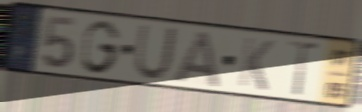5: (41, 13, 80, 70)
A: (172, 28, 222, 89)
G: (79, 18, 123, 76)
K: (236, 35, 276, 93)
T: (286, 38, 322, 98)
U: (132, 22, 180, 82)
